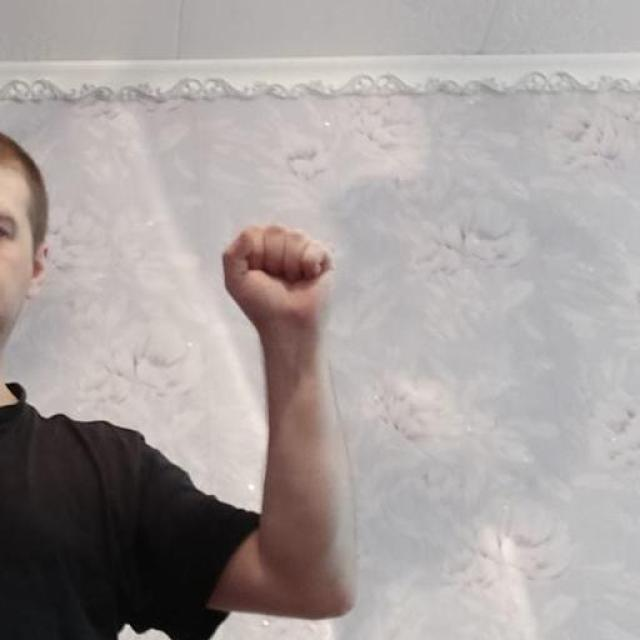hand: (220, 221, 334, 335)
